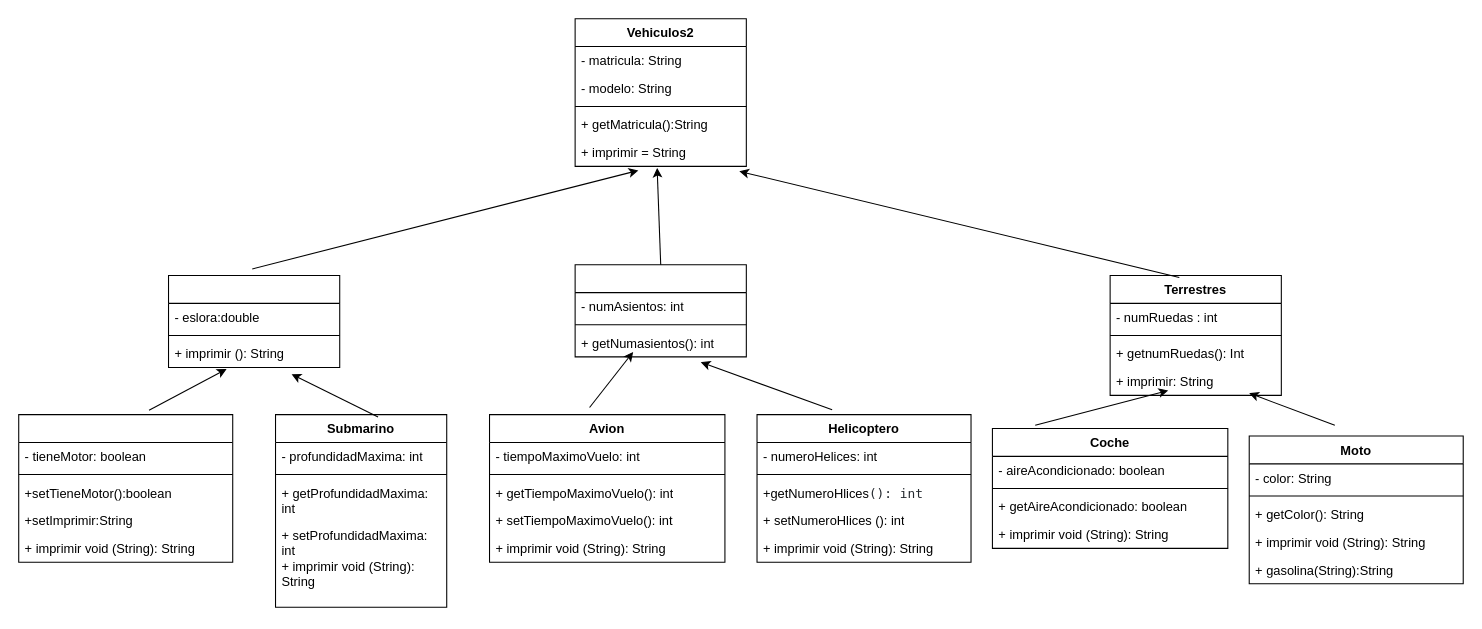
The diagram is 1482 pixels wide and 629 high, and some of its shapes have lost their labels. Here are the shapes that lost their labels. From the top down, the box of each, then its label:
(167, 274, 340, 368): Acuaticos
(574, 264, 746, 357): Aereos
(18, 414, 233, 562): Barco
